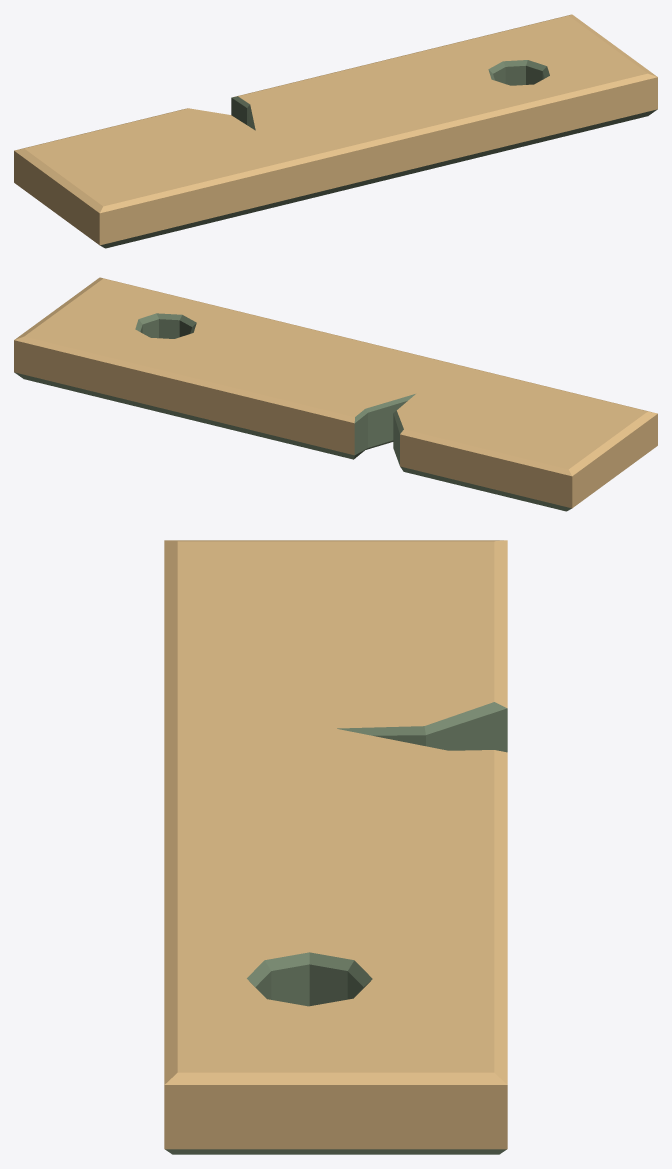
The model's file is Plank_2.glb.
3 renders of one model, top to bottom at view 1: azimuth 30°, elevation 25°; view 2: azimuth 150°, elevation 25°; view 3: azimuth 270°, elevation 25°, orthographic. The views are drawn at different scales.
Parts seen in each view (by area): view 1: Plank.001; view 2: Plank.001; view 3: Plank.001.
Boxes of the visible parts, left/top/right/bottom form: Plank.001: left=14, top=14, right=657, bottom=248; Plank.001: left=14, top=277, right=657, bottom=511; Plank.001: left=164, top=540, right=507, bottom=1154.
Bounding box in the file's own units: 1 × 0.0709 × 0.2661.
